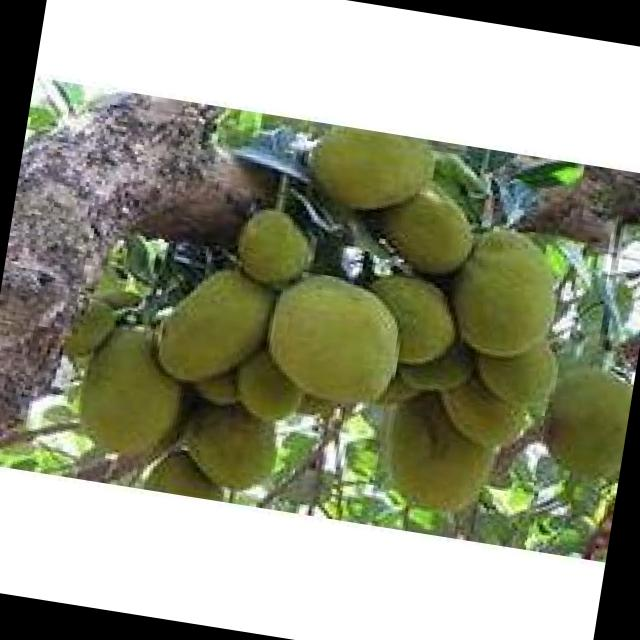Fruit: (243, 242, 437, 440), (56, 308, 206, 476)
